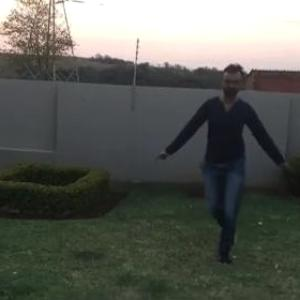land: (176, 72, 284, 230)
